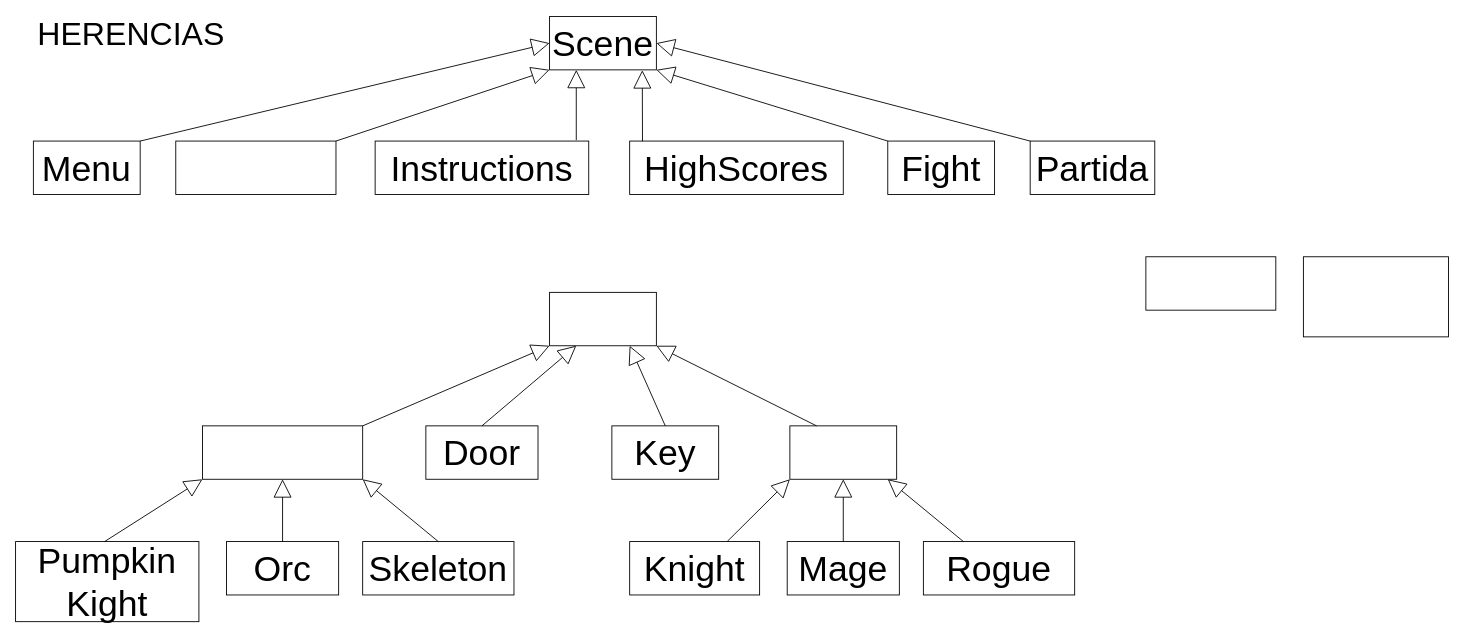
This 1464x640 diagram has some shape labels left out. Here are the shapes that lost their labels. From the top down, the box of each, then its label:
(175, 140, 336, 194): Selection
(1145, 256, 1276, 310): Game
(1303, 256, 1448, 337): Input Manager
(549, 291, 656, 346): Entity
(202, 425, 363, 479): Enemy
(789, 425, 897, 479): Player
